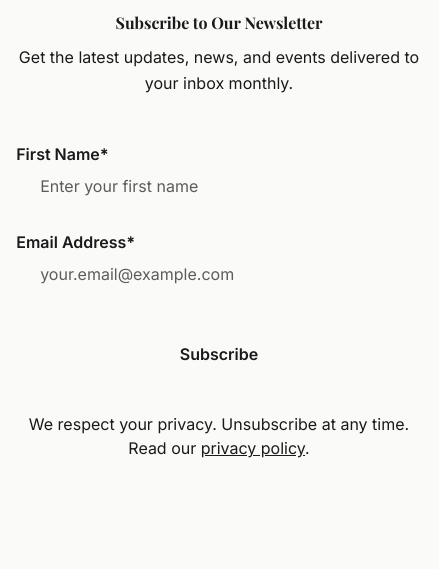
Test: NewsletterSignup › Validation › shows error when email is empty
The image size is (439, 569).
Type "John" into the field labelled "First Name *". click: (219, 186)
box: [16, 164, 422, 208]
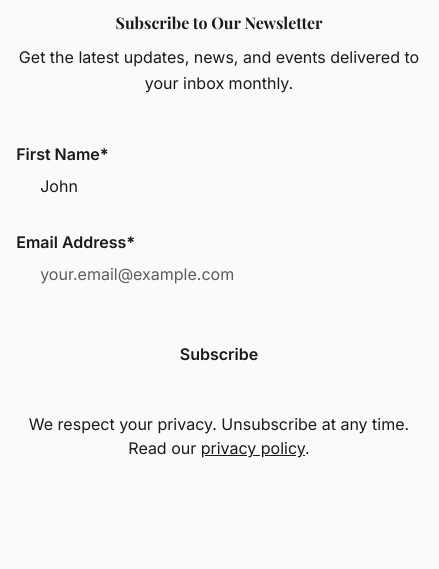
Click the button "Subscribe". click: (219, 354)
box: [16, 320, 422, 388]
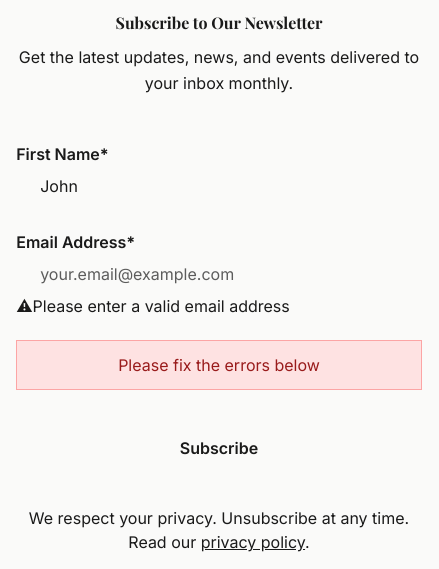
Check: the text "Please enter a valid email address" is shown, box [33, 296, 290, 316]
